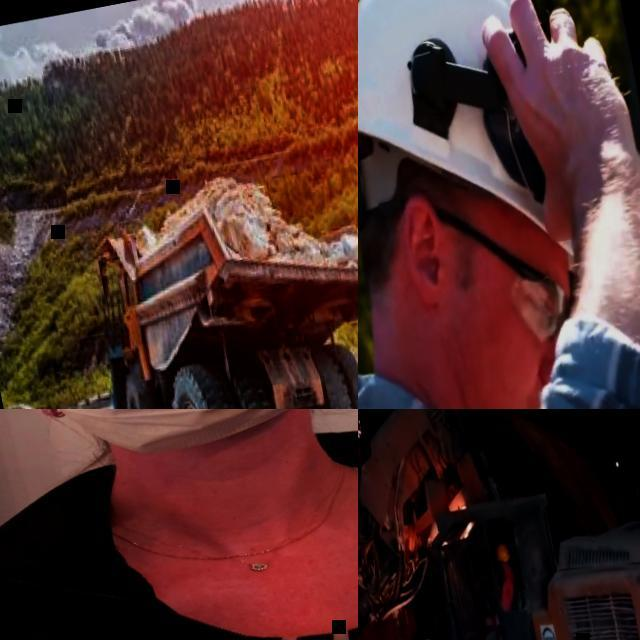Helmet: (354, 0, 593, 259)
Robbery: (337, 0, 640, 409), (0, 397, 358, 640)
